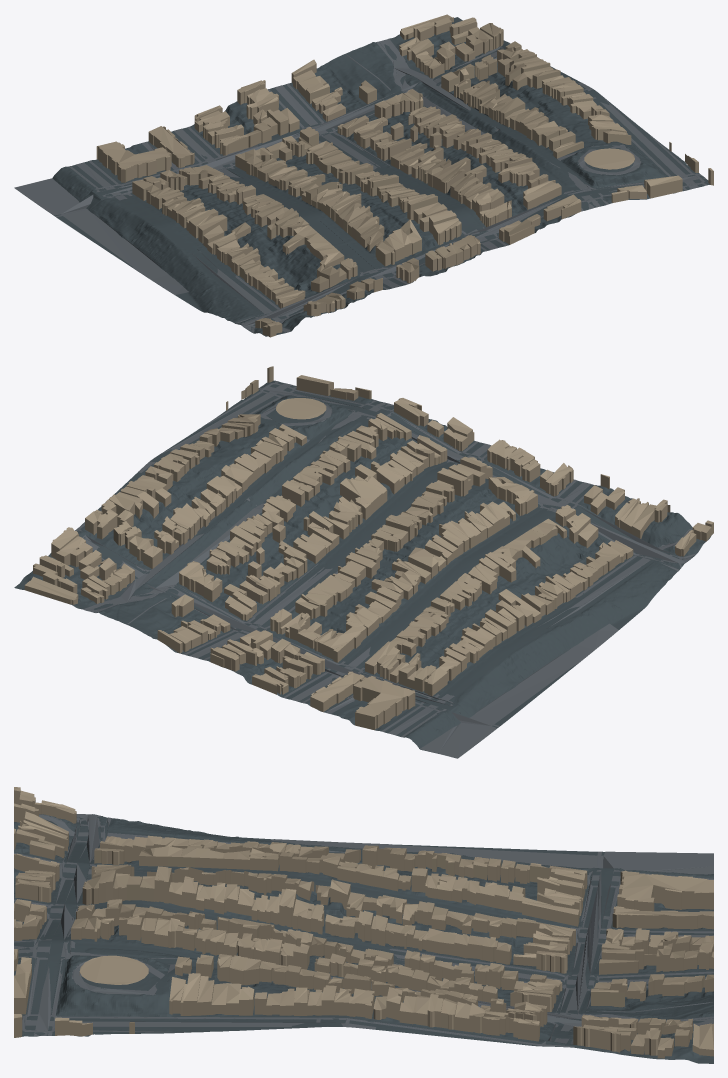
File: epsg26910-1439-10882.lod0.glb
The picture shows the model from 3 angles, top to bottom: view 1: azimuth 30°, elevation 25°; view 2: azimuth 150°, elevation 25°; view 3: azimuth 270°, elevation 25°; orthographic projection. The views are drawn at different scales.
Visible parts, largest first — view 1: epsg26910-1439-10882-lod0; view 2: epsg26910-1439-10882-lod0; view 3: epsg26910-1439-10882-lod0.
Part boxes in pixels (bbox=[...]): epsg26910-1439-10882-lod0: bbox=[14, 14, 713, 337]; epsg26910-1439-10882-lod0: bbox=[14, 366, 713, 758]; epsg26910-1439-10882-lod0: bbox=[14, 787, 713, 1063].
Size of the model in its own units: 384 by 85.61 by 384.
